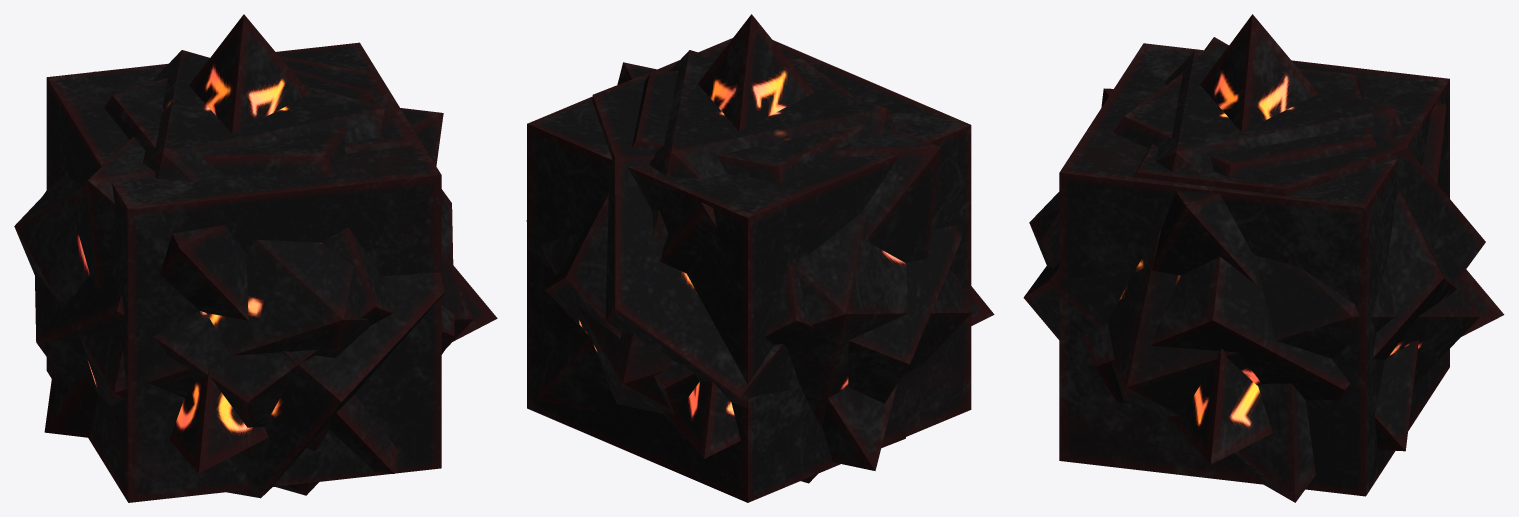
File: dice.glb
The picture shows the model from 3 angles, left to right: view 1: azimuth 30°, elevation 25°; view 2: azimuth 150°, elevation 25°; view 3: azimuth 270°, elevation 25°; orthographic projection. The views are drawn at different scales.
Parts seen in each view (by area): view 1: d6, d20, d12, d10, d4, d8; view 2: d6, d20, d10, d12, d8, d4; view 3: d6, d20, d12, d10, d4, d8.
Part boxes in pixels (bbox=[...]): d6: bbox=[46, 42, 441, 502]; d20: bbox=[14, 50, 473, 495]; d12: bbox=[34, 68, 454, 456]; d10: bbox=[71, 56, 444, 498]; d4: bbox=[169, 14, 497, 473]; d8: bbox=[44, 71, 443, 473]; d6: bbox=[527, 38, 971, 502]; d20: bbox=[526, 50, 971, 483]; d10: bbox=[592, 51, 940, 447]; d12: bbox=[545, 58, 961, 433]; d8: bbox=[537, 62, 897, 470]; d4: bbox=[663, 14, 994, 458]; d6: bbox=[1059, 43, 1449, 496]; d20: bbox=[1029, 50, 1479, 417]; d12: bbox=[1040, 69, 1457, 402]; d10: bbox=[1023, 37, 1485, 502]; d4: bbox=[1168, 14, 1504, 464]; d8: bbox=[1101, 88, 1446, 451].
Size of the model in its own units: 0.3191 by 0.3133 by 0.3239.
1 material, 1 textured.
